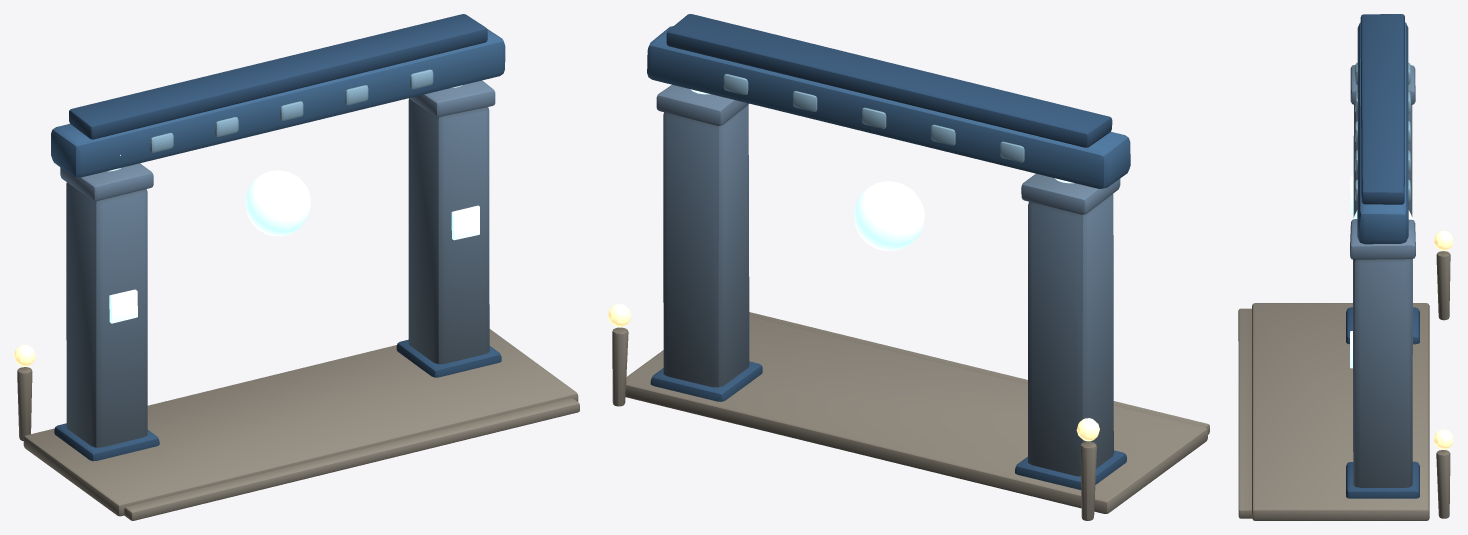
3 renders of one model, left to right at view 1: azimuth 30°, elevation 25°; view 2: azimuth 150°, elevation 25°; view 3: azimuth 270°, elevation 25°, orthographic. The views are drawn at different scales.
Parts seen in each view (by area): view 1: gate_417c8515; view 2: gate_417c8515; view 3: gate_417c8515.
Part boxes in pixels (x1,y1,x2,y2): gate_417c8515: (14, 14, 579, 520); gate_417c8515: (608, 14, 1209, 520); gate_417c8515: (1238, 14, 1453, 520).
Size of the model in its own units: 5.82 by 4.13 by 2.54.
